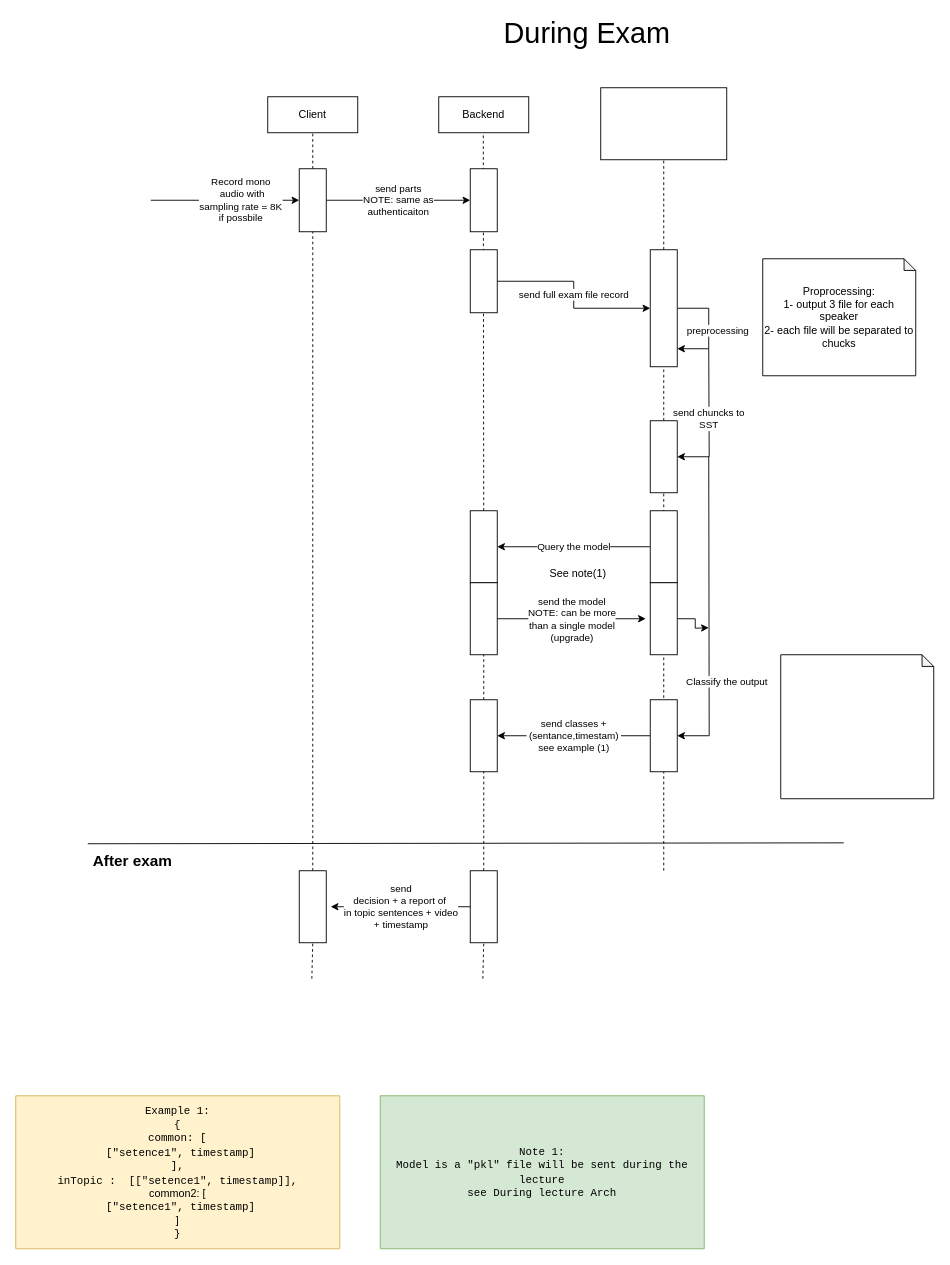
Some shapes in this 950 by 1265 pixel diagram are drawn without their labels. The shapes that lost their labels are listed below. From the top down, each one's centre as x and y in pixels, then its label:
pixel 663 123: ML_SEPARATION ML_SST
pixel 857 726: { common : #common, inTopic: #inTopic, uncommon2: #common2, }
